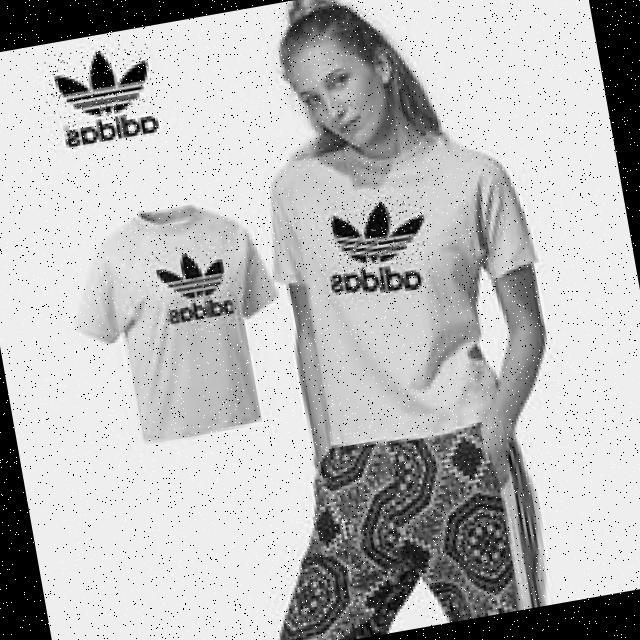Adidas: (38, 37, 161, 130), (322, 190, 433, 276), (150, 237, 243, 309)
